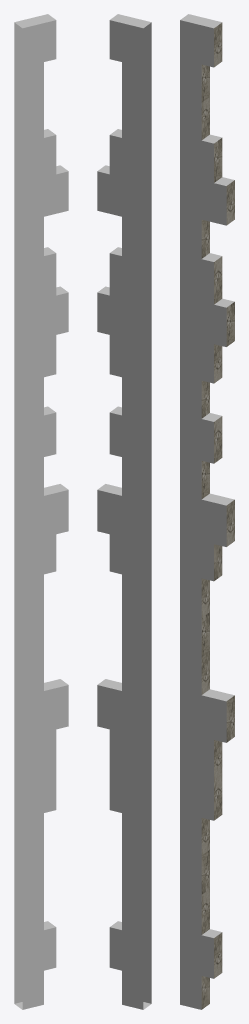
File: Platform_Side_Right.fbx
The picture shows the model from 3 angles, left to right: view 1: azimuth 30°, elevation 25°; view 2: azimuth 150°, elevation 25°; view 3: azimuth 330°, elevation 25°; orthographic projection.
Parts seen in each view (by area): view 1: Platform_Side_Right; view 2: Platform_Side_Right; view 3: Platform_Side_Right.
Part boxes in pixels (x1,y1,x2,y2): Platform_Side_Right: (14,14,68,1009); Platform_Side_Right: (97,14,151,1009); Platform_Side_Right: (180,14,234,1009).
Size of the model in its own units: 0.5789 by 11.74 by 0.1803.
